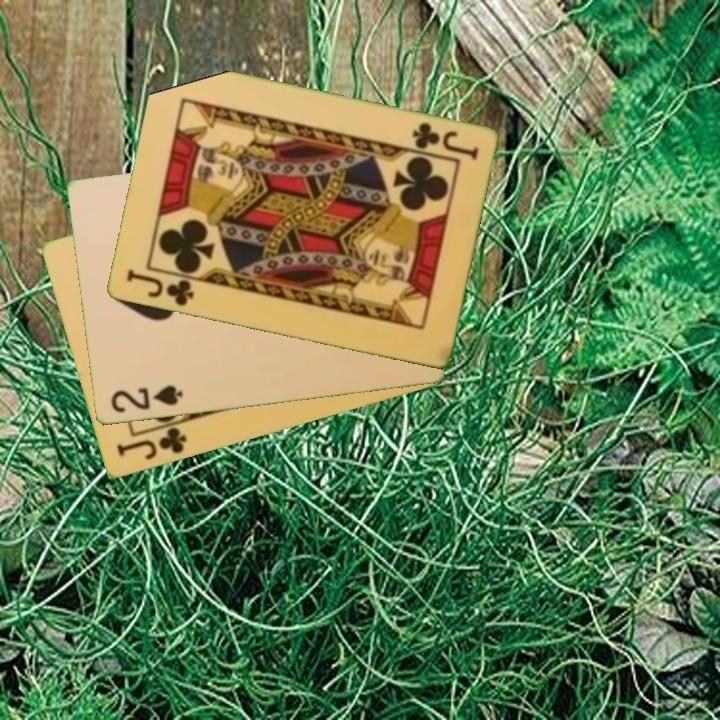2s: (107, 382, 185, 416)
Jc: (122, 266, 196, 310), (408, 119, 481, 163), (112, 424, 190, 464)
